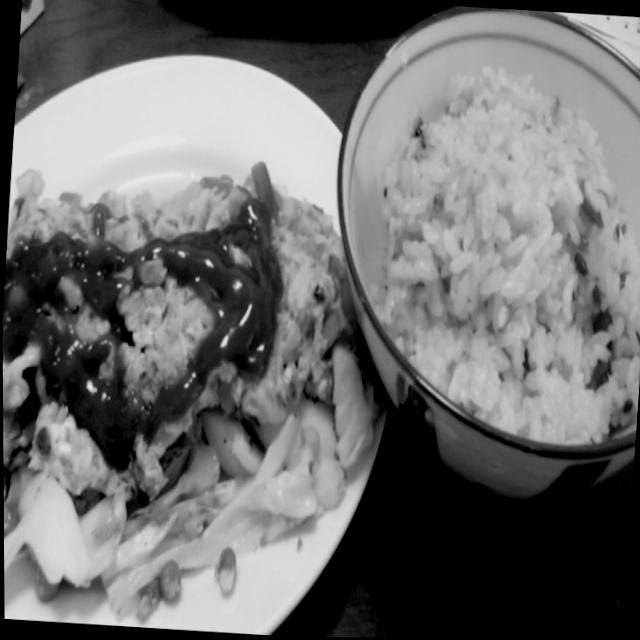米饭主食: (335, 48, 640, 475)
